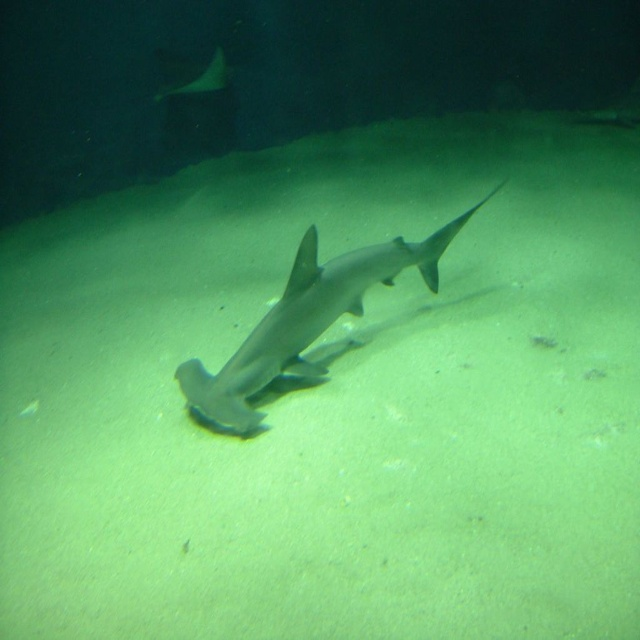Shark: (175, 179, 507, 434)
